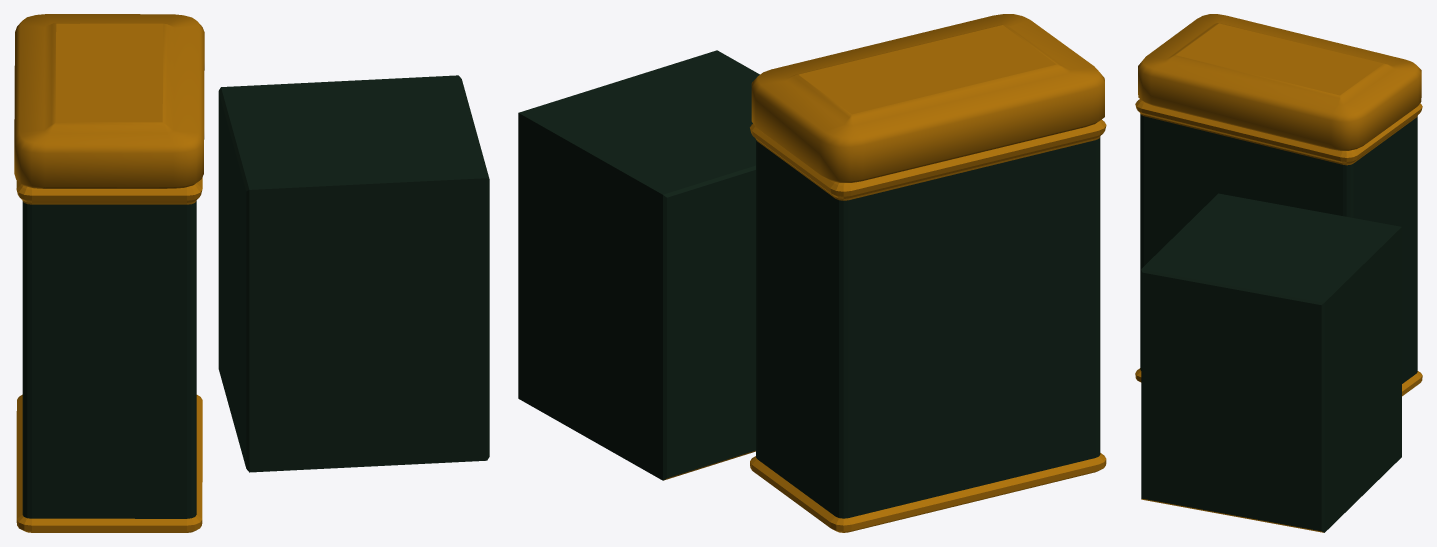
Rendered from tea.FBX.
The picture shows the model from 3 angles, left to right: view 1: azimuth 30°, elevation 25°; view 2: azimuth 150°, elevation 25°; view 3: azimuth 270°, elevation 25°; orthographic projection. The views are drawn at different scales.
Visible parts, largest first — view 1: Loft02; view 2: Loft02; view 3: Loft02.
Part boxes in pixels (x1=…): Loft02: x1=14, y1=14, x2=489, y2=532; Loft02: x1=518, y1=14, x2=1106, y2=532; Loft02: x1=1135, y1=14, x2=1422, y2=532.
Size of the model in its own units: 12.79 by 9.49 by 7.64.
